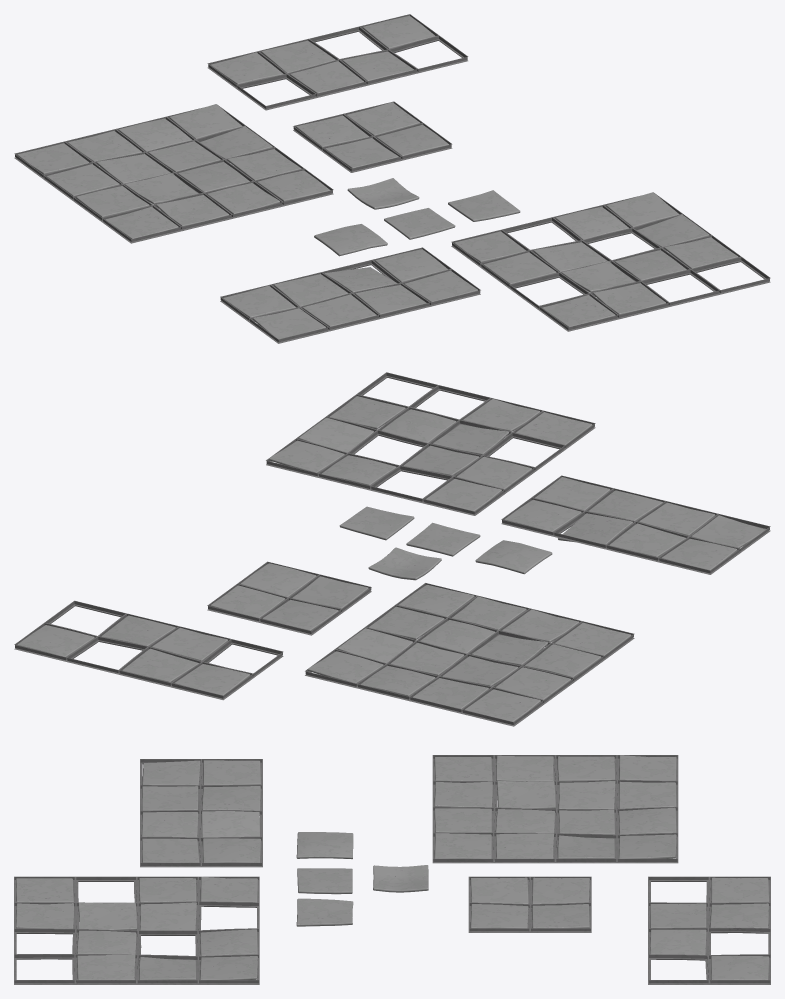
The model's file is hospital_ceiling.glb.
3 views of the same model, one above another, from view 1: azimuth 30°, elevation 25°; view 2: azimuth 150°, elevation 25°; view 3: azimuth 270°, elevation 25° (orthographic). The views are drawn at different scales.
Parts seen in each view (by area): view 1: SM_HospitalCeiling_800x800_LOD0.mo, SM_HospitalCeiling_Broken01_800x800_LOD0.mo_MAT_HospitalCeil, SM_HospitalCeiling_800x400_LOD0.mo, SM_HospitalCeiling_Broken01_800x400_LOD0.mo_MAT_HospitalCeil, SM_HospitalCeiling_400x400_LOD0.mo, SM_HospitalCeiling_Tile01_LOD0.mo, SM_HospitalCeiling_Tile02_LOD0.mo, SM_HospitalCeiling_Tile04_LOD0.mo, SM_HospitalCeiling_Tile03_LOD0.mo; view 2: SM_HospitalCeiling_800x800_LOD0.mo, SM_HospitalCeiling_Broken01_800x800_LOD0.mo_MAT_HospitalCeil, SM_HospitalCeiling_800x400_LOD0.mo, SM_HospitalCeiling_Broken01_800x400_LOD0.mo_MAT_HospitalCeil, SM_HospitalCeiling_400x400_LOD0.mo, SM_HospitalCeiling_Tile01_LOD0.mo, SM_HospitalCeiling_Tile02_LOD0.mo, SM_HospitalCeiling_Tile04_LOD0.mo, SM_HospitalCeiling_Tile03_LOD0.mo; view 3: SM_HospitalCeiling_800x800_LOD0.mo, SM_HospitalCeiling_Broken01_800x800_LOD0.mo_MAT_HospitalCeil, SM_HospitalCeiling_800x400_LOD0.mo, SM_HospitalCeiling_Broken01_800x400_LOD0.mo_MAT_HospitalCeil, SM_HospitalCeiling_400x400_LOD0.mo, SM_HospitalCeiling_Tile02_LOD0.mo, SM_HospitalCeiling_Tile01_LOD0.mo, SM_HospitalCeiling_Tile03_LOD0.mo, SM_HospitalCeiling_Tile04_LOD0.mo.
Boxes of the visible parts, left/top/right/bottom form: SM_HospitalCeiling_800x800_LOD0.mo: left=14, top=104, right=333, bottom=243; SM_HospitalCeiling_Broken01_800x800_LOD0.mo_MAT_HospitalCeil: left=451, top=192, right=770, bottom=331; SM_HospitalCeiling_800x400_LOD0.mo: left=220, top=247, right=480, bottom=343; SM_HospitalCeiling_Broken01_800x400_LOD0.mo_MAT_HospitalCeil: left=207, top=14, right=468, bottom=110; SM_HospitalCeiling_400x400_LOD0.mo: left=293, top=101, right=452, bottom=172; SM_HospitalCeiling_Tile01_LOD0.mo: left=314, top=224, right=387, bottom=256; SM_HospitalCeiling_Tile02_LOD0.mo: left=448, top=190, right=520, bottom=221; SM_HospitalCeiling_Tile04_LOD0.mo: left=384, top=208, right=455, bottom=239; SM_HospitalCeiling_Tile03_LOD0.mo: left=347, top=178, right=419, bottom=209; SM_HospitalCeiling_800x800_LOD0.mo: left=305, top=583, right=634, bottom=726; SM_HospitalCeiling_Broken01_800x800_LOD0.mo_MAT_HospitalCeil: left=266, top=372, right=595, bottom=515; SM_HospitalCeiling_800x400_LOD0.mo: left=501, top=475, right=770, bottom=574; SM_HospitalCeiling_Broken01_800x400_LOD0.mo_MAT_HospitalCeil: left=14, top=600, right=283, bottom=700; SM_HospitalCeiling_400x400_LOD0.mo: left=207, top=561, right=371, bottom=635; SM_HospitalCeiling_Tile01_LOD0.mo: left=475, top=540, right=552, bottom=574; SM_HospitalCeiling_Tile02_LOD0.mo: left=339, top=506, right=414, bottom=540; SM_HospitalCeiling_Tile04_LOD0.mo: left=406, top=522, right=480, bottom=556; SM_HospitalCeiling_Tile03_LOD0.mo: left=368, top=547, right=441, bottom=580; SM_HospitalCeiling_800x800_LOD0.mo: left=432, top=755, right=678, bottom=863; SM_HospitalCeiling_Broken01_800x800_LOD0.mo_MAT_HospitalCeil: left=14, top=876, right=259, bottom=984; SM_HospitalCeiling_800x400_LOD0.mo: left=140, top=759, right=262, bottom=867; SM_HospitalCeiling_Broken01_800x400_LOD0.mo_MAT_HospitalCeil: left=648, top=876, right=770, bottom=984; SM_HospitalCeiling_400x400_LOD0.mo: left=468, top=876, right=591, bottom=932; SM_HospitalCeiling_Tile02_LOD0.mo: left=296, top=898, right=353, bottom=926; SM_HospitalCeiling_Tile01_LOD0.mo: left=296, top=832, right=353, bottom=859; SM_HospitalCeiling_Tile03_LOD0.mo: left=373, top=865, right=428, bottom=892; SM_HospitalCeiling_Tile04_LOD0.mo: left=297, top=868, right=352, bottom=894.
Size of the model in its own units: 17.36 by 0.3746 by 24.64.
Materials: 1 (1 with a texture image).
